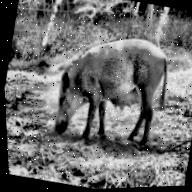boar: (44, 21, 179, 155)
